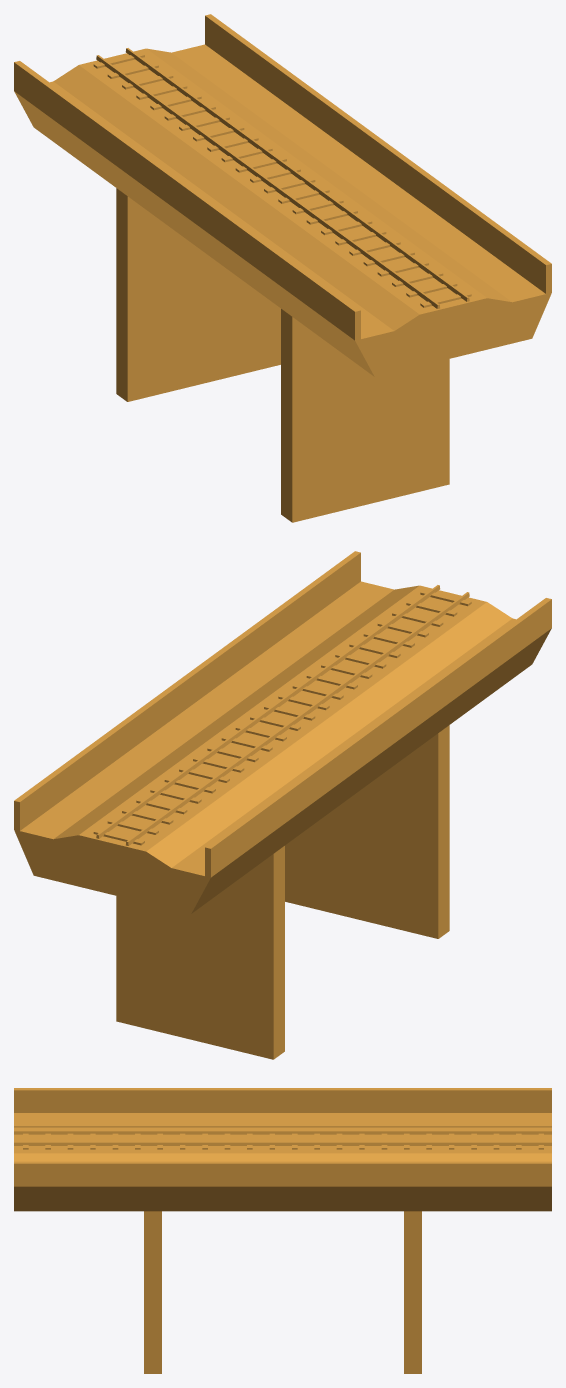
File: bridge-rail.glb
3 renders of one model, top to bottom at view 1: azimuth 30°, elevation 25°; view 2: azimuth 150°, elevation 25°; view 3: azimuth 270°, elevation 25°, orthographic. The views are drawn at different scales.
Visible parts, largest first — view 1: bridge-rail; view 2: bridge-rail; view 3: bridge-rail.
Boxes of the visible parts, x1=… form: bridge-rail: x1=14, y1=14, x2=551, y2=522; bridge-rail: x1=14, y1=551, x2=551, y2=1059; bridge-rail: x1=14, y1=1088, x2=551, y2=1373.
Size of the model in its own units: 10 by 13.4 by 30.
